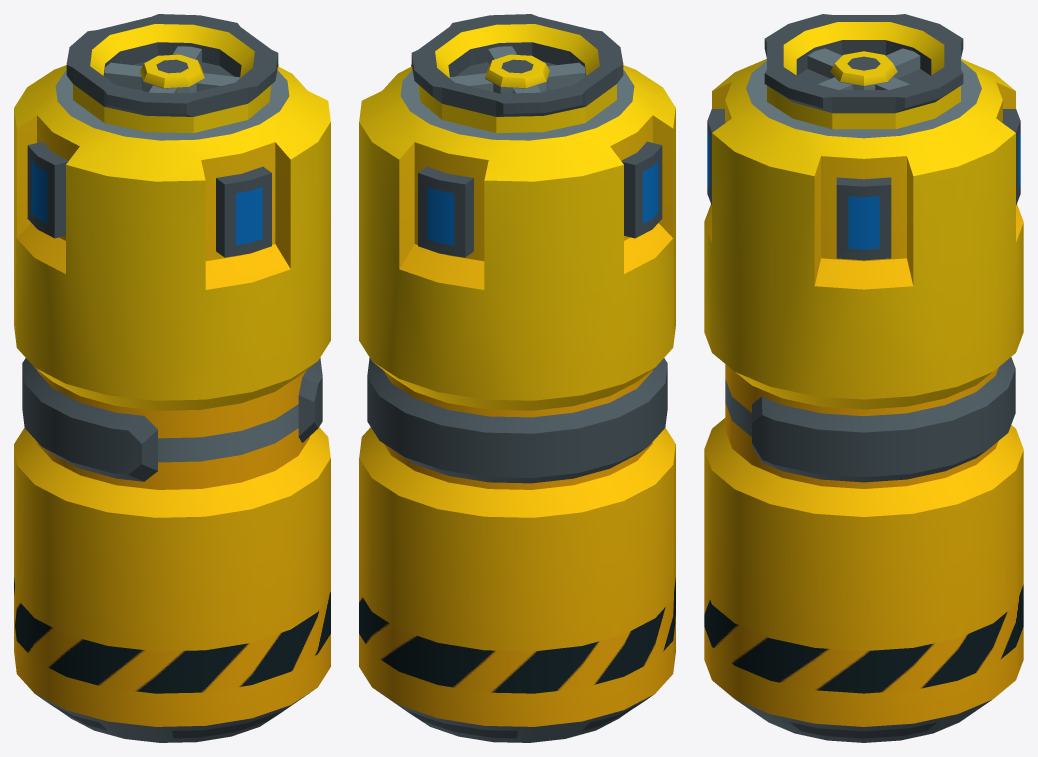
File: Barrel_003.fbx
3 renders of one model, left to right at view 1: azimuth 30°, elevation 25°; view 2: azimuth 150°, elevation 25°; view 3: azimuth 270°, elevation 25°, orthographic.
Visible parts, largest first — view 1: Barrel_003; view 2: Barrel_003; view 3: Barrel_003.
Boxes of the visible parts, x1,y1,x2,y2 form: Barrel_003: (14, 14, 330, 742); Barrel_003: (359, 14, 675, 742); Barrel_003: (704, 14, 1023, 742).
Size of the model in its own units: 60 by 60 by 132.
